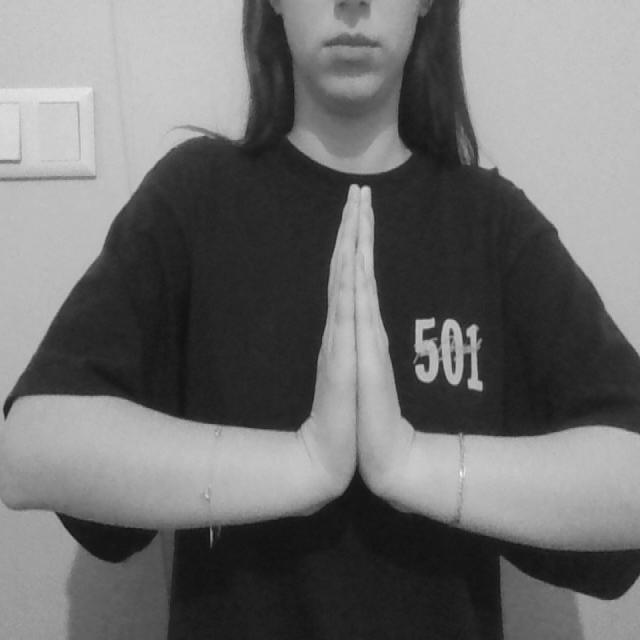Ozur-Dilemek: (287, 170, 424, 527)
